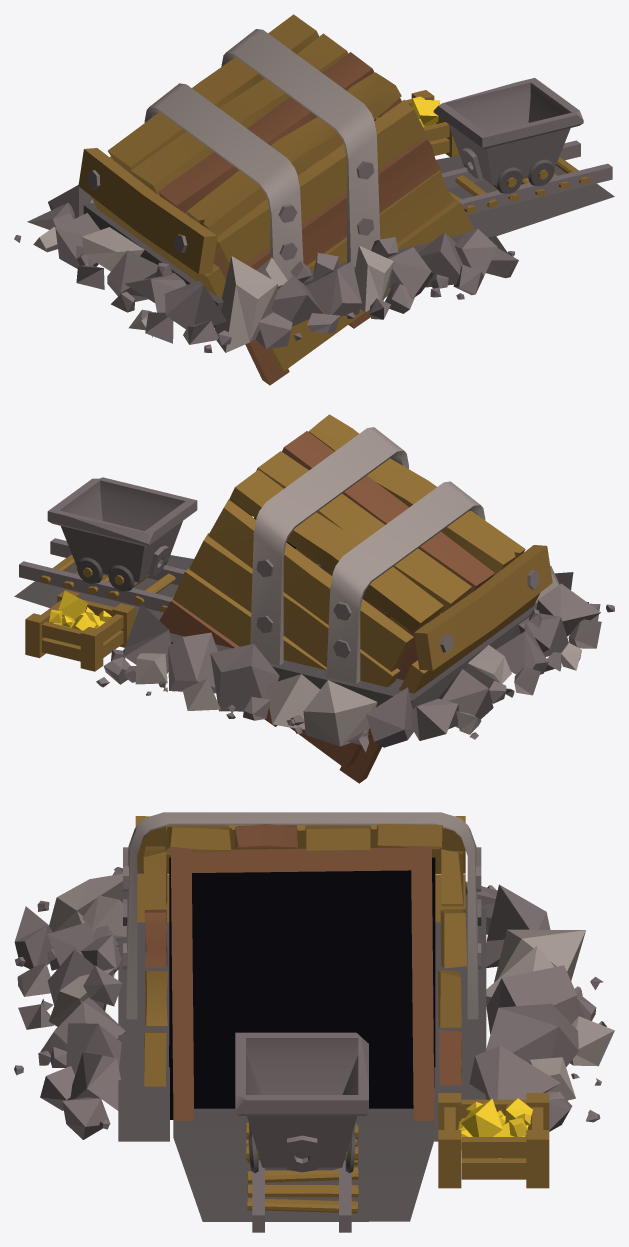
File: MiningRig.fbx
3 renders of one model, top to bottom at view 1: azimuth 30°, elevation 25°; view 2: azimuth 150°, elevation 25°; view 3: azimuth 270°, elevation 25°, orthographic. The views are drawn at different scales.
Parts seen in each view (by area): view 1: MiningRig, MiningRig_Cart; view 2: MiningRig, MiningRig_Cart; view 3: MiningRig, MiningRig_ShaderPlane, MiningRig_Cart.
Part boxes in pixels (x1,y1,x2,y2): MiningRig: (14, 14, 614, 385); MiningRig_Cart: (433, 78, 583, 193); MiningRig: (14, 414, 614, 783); MiningRig_Cart: (47, 477, 197, 591); MiningRig: (14, 812, 614, 1232); MiningRig_ShaderPlane: (169, 857, 435, 1119); MiningRig_Cart: (235, 1032, 368, 1173).
Size of the model in its own units: 608 by 309 by 452.
Materials: 1 (1 with a texture image).
